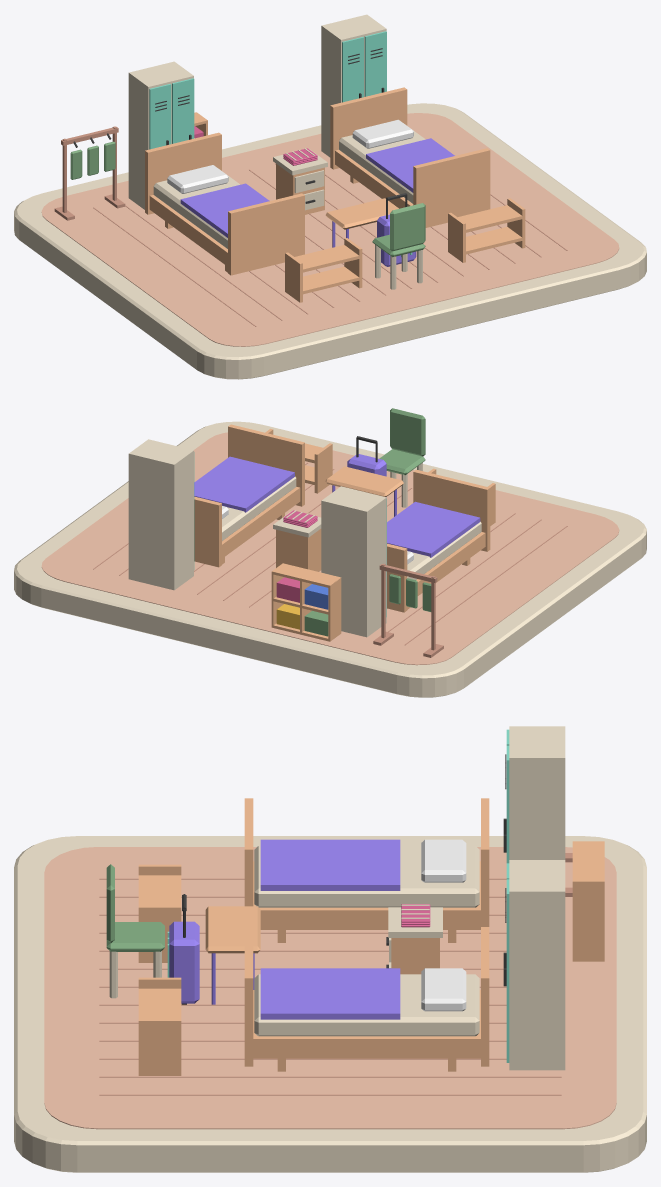
3 views of the same model, one above another, from view 1: azimuth 30°, elevation 25°; view 2: azimuth 150°, elevation 25°; view 3: azimuth 270°, elevation 25° (orthographic). The views are drawn at different scales.
Parts seen in each view (by area): view 1: COM-02 Floor Surface, COM-01 Rounded Base Direct, End board, End board.002, Case, Case.001, End board.003, End board.001, Blanket.001, Blanket, Backrest, Mattress (+19 smaller); view 2: COM-02 Floor Surface, COM-01 Rounded Base Direct, Case.001, Case, Blanket.001, Blanket, End board, End board.002, End board.003, Body, Backrest, Frame.001 (+15 smaller); view 3: COM-02 Floor Surface, COM-01 Rounded Base Direct, Case.001, Case, Blanket.001, Blanket, Mattress.001, Mattress, Frame.001, Frame, Cubbies divider.002, Side.003 (+20 smaller).
Boxes of the visible parts, bbox=[...] form: COM-02 Floor Surface: bbox=[41, 113, 619, 346]; COM-01 Rounded Base Direct: bbox=[14, 103, 646, 379]; End board: bbox=[228, 193, 304, 275]; End board.002: bbox=[413, 148, 490, 227]; Case: bbox=[128, 61, 193, 209]; Case.001: bbox=[321, 14, 386, 157]; End board.003: bbox=[330, 87, 407, 169]; End board.001: bbox=[145, 132, 221, 214]; Blanket.001: bbox=[366, 138, 454, 192]; Blanket: bbox=[180, 183, 269, 237]; Backrest: bbox=[390, 203, 425, 251]; Mattress: bbox=[153, 170, 239, 248]; COM-02 Floor Surface: bbox=[41, 432, 619, 665]; COM-01 Rounded Base Direct: bbox=[14, 421, 646, 697]; Case.001: bbox=[128, 439, 193, 590]; Case: bbox=[321, 486, 386, 637]; Blanket.001: bbox=[194, 456, 294, 512]; Blanket: bbox=[387, 501, 480, 557]; End board: bbox=[413, 469, 490, 551]; End board.002: bbox=[228, 424, 304, 506]; End board.003: bbox=[194, 496, 221, 567]; Body: bbox=[276, 529, 321, 571]; Backrest: bbox=[390, 408, 425, 456]; Frame.001: bbox=[222, 487, 300, 558]; COM-02 Floor Surface: bbox=[44, 847, 616, 1129]; COM-01 Rounded Base Direct: bbox=[14, 836, 646, 1172]; Case.001: bbox=[509, 860, 565, 1070]; Case: bbox=[509, 726, 565, 859]; Blanket.001: bbox=[260, 968, 400, 1019]; Blanket: bbox=[260, 839, 400, 890]; Mattress.001: bbox=[254, 974, 479, 1036]; Mattress: bbox=[254, 845, 479, 907]; Frame.001: bbox=[253, 990, 480, 1058]; Frame: bbox=[253, 861, 480, 929]; Cubbies divider.002: bbox=[572, 882, 604, 961]; Side.003: bbox=[138, 1019, 181, 1075].
Bounding box in the file's own units: 6 × 1.92 × 5.2.
1 material, 1 textured.
